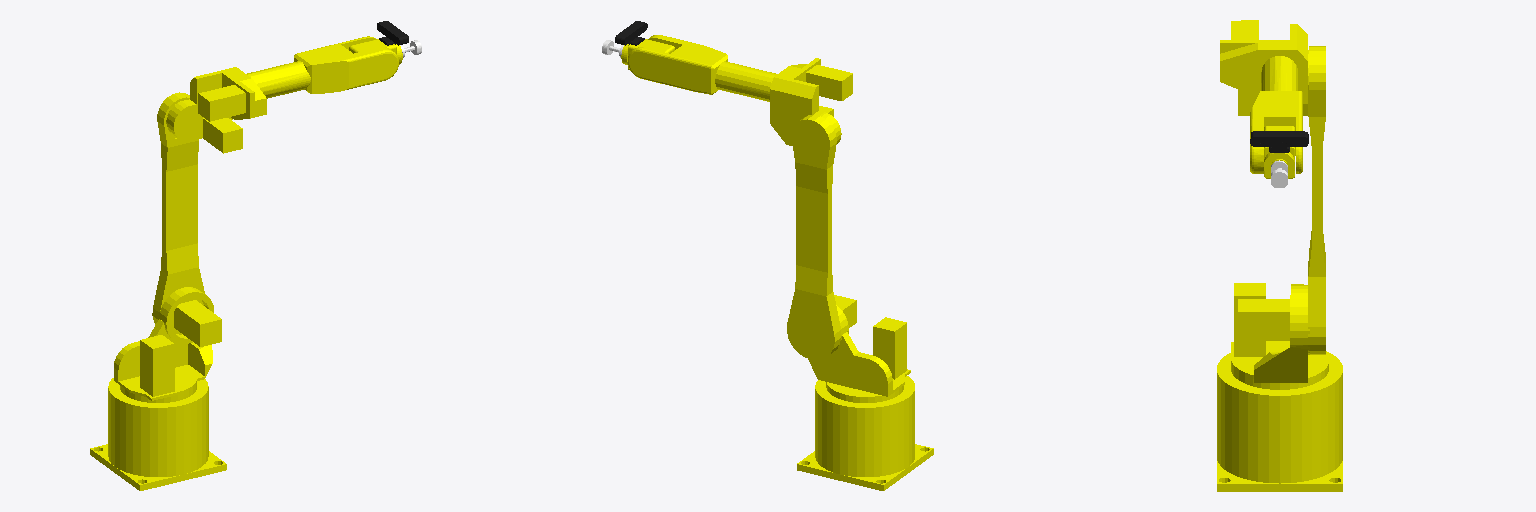
robot.urdf — fanuc_arcmate120ibe:
<?xml version="1.0" encoding="utf-8"?>
<!-- This URDF was automatically created by SolidWorks to URDF Exporter! Originally created by [author] ([email redacted]) 
     Commit Version: 1.5.1-0-g916b5db  Build Version: 1.5.7152.31018
     For more information, please see http://wiki.ros.org/sw_urdf_exporter -->

<robot
  name="fanuc_arcmate120ibe">
  <link
    name="base_link">
    <visual>
      <origin
        xyz="0 0 0"
        rpy="0 0 0" />
      <geometry>
        <mesh
          filename="package://fanuc_arcmate120ibe_support/meshes/base_link.STL" />
      </geometry>
      <material
        name="">
        <color
          rgba="1 1 0 1" />
      </material>
    </visual>
    <collision>
      <origin
        xyz="0 0 0"
        rpy="0 0 0" />
      <geometry>
        <mesh
          filename="package://fanuc_arcmate120ibe_support/meshes/base_link.STL" />
      </geometry>
    </collision>
  </link>
  <link
    name="link_1">
    <visual>
      <origin
        xyz="0 0 -0.225"
        rpy="1.57 0 1.57" />
      <geometry>
        <mesh
          filename="package://fanuc_arcmate120ibe_support/meshes/link_1.STL" />
      </geometry>
      <material
        name="">
        <color
          rgba="1 1 0 1" />
      </material>
    </visual>
    <collision>
      <origin
        xyz="0 0 -0.225"
        rpy="1.57 0 1.57" />
      <geometry>
        <mesh
          filename="package://fanuc_arcmate120ibe_support/meshes/link_1.STL" />
      </geometry>
    </collision>
  </link>
  <joint
    name="joint_1"
    type="revolute">
    <origin
      xyz="0 0 0.525"
      rpy="0 0 0" /> <!-- xyz="0 0 0.3" rpy="1.5708 0 1.5708"-->
    <parent
      link="base_link" />
    <child
      link="link_1" />
    <axis
      xyz="0 0 1" /> <!--xyz="0 0 0" -->
    <limit
      lower="-2.96"
      upper="2.96"
      effort="0"
      velocity="2.879" />
  </joint>
  <link
    name="link_2">
    <visual>
      <origin
        xyz="0 0 -0.08"
        rpy="0 0 -1.57" />
      <geometry>
        <mesh
          filename="package://fanuc_arcmate120ibe_support/meshes/link_2.STL" />
      </geometry>
      <material
        name="">
        <color
          rgba="1 1 0 1" />
      </material>
    </visual>
    <collision>
      <origin
        xyz="0 0 -0.08"
        rpy="0 0 -1.57" />
      <geometry>
        <mesh
          filename="package://fanuc_arcmate120ibe_support/meshes/link_2.STL" />
      </geometry>
    </collision>
  </link>
  <joint
    name="joint_2"
    type="revolute">
    <origin
      xyz="0.150 0 0"
      rpy="1.57 -1.57 0" /> <!--xyz="0.08 0.225 0.15" -->
    <parent
      link="link_1" />
    <child
      link="link_2" />
    <axis
      xyz="0 0 -1" />
    <limit
      lower="-1.57"
      upper="2.79"
      effort="0"
      velocity="2.879" />
  </joint>
  <link
    name="link_3">
    <visual>
      <origin
        xyz="0 0 -0.08"
        rpy="3.14 0 1.57" />
      <geometry>
        <mesh
          filename="package://fanuc_arcmate120ibe_support/meshes/link_3.STL" />
      </geometry>
      <material
        name="">
        <color
          rgba="1 1 0 1" />
      </material>
    </visual>
    <collision>
      <origin
        xyz="0 0 -0.08"
        rpy="3.14 0 1.57" />
      <geometry>
        <mesh
          filename="package://fanuc_arcmate120ibe_support/meshes/link_3.STL" />
      </geometry>
    </collision>
  </link>
  <joint
    name="joint_3"
    type="revolute">
    <origin
      xyz="0.770 0 0"
      rpy="0 0 0" />
    <parent
      link="link_2" />
    <child
      link="link_3" />
    <axis
      xyz="0 0 1" />
    <limit
      lower="-2.96"
      upper="5.06"
      effort="0"
      velocity="3.054" />
  </joint>
  <link
    name="link_4">
    <visual>
      <origin
        xyz="0 0 0.200"
        rpy="0 -3.14 -1.57" />
      <geometry>
        <mesh
          filename="package://fanuc_arcmate120ibe_support/meshes/link_4.STL" />
      </geometry>
      <material
        name="">
        <color
          rgba="1 1 0 1" />
      </material>
    </visual>
    <collision>
      <origin
        xyz="0 0 0.200"
        rpy="0 -3.14 -1.57" />
      <geometry>
        <mesh
          filename="package://fanuc_arcmate120ibe_support/meshes/link_4.STL" />
      </geometry>
    </collision>
  </link>
  <joint
    name="joint_4"
    type="revolute">
    <origin
      xyz="0.100 0 0"
      rpy="1.57 0 0" />
    <parent
      link="link_3" />
    <child
      link="link_4" />
    <axis
      xyz="0 0 -1" />
    <limit
      lower="-3.49"
      upper="3.49"
      effort="0"
      velocity="6.108" />
  </joint>
  <link
    name="link_5">
    <visual>
      <origin
        xyz="0 0 -0.045"
        rpy="-3.14 0 1.57" />
      <geometry>
        <mesh
          filename="package://fanuc_arcmate120ibe_support/meshes/link_5.STL" />
      </geometry>
      <material
        name="">
        <color
          rgba="1 1 0 1" />
      </material>
    </visual>
    <collision>
      <origin
        xyz="0 0 -0.045"
        rpy="-3.14 0 1.57" />
      <geometry>
        <mesh
          filename="package://fanuc_arcmate120ibe_support/meshes/link_5.STL" />
      </geometry>
    </collision>
  </link>
  <joint
    name="joint_5"
    type="revolute">
    <origin
      xyz="0 0 0.740"
      rpy="1.57 0 0" />
    <parent
      link="link_4" />
    <child
      link="link_5" />
    <axis
      xyz="0 0 -1" />
    <limit
      lower="-2.44"
      upper="2.44"
      effort="0"
      velocity="5.934" />
  </joint>
  <link
    name="link_6">
    <visual>
      <origin
        xyz="0 0 -0.03"
        rpy="0 0 0" />
      <geometry>
        <mesh
          filename="package://fanuc_arcmate120ibe_support/meshes/link_6.STL" />
      </geometry>
      <material
        name="">
        <color
          rgba="1 1 0 1" />
      </material>
    </visual>
    <collision>
      <origin
        xyz="0 0 -0.03"
        rpy="0 0 0" />
      <geometry>
        <mesh
          filename="package://fanuc_arcmate120ibe_support/meshes/link_6.STL" />
      </geometry>
    </collision>
  </link>
  <joint
    name="joint_6"
    type="revolute">
    <origin
      xyz="0 0.1 0"
      rpy="-1.57 0 0" />
    <parent
      link="link_5" />
    <child
      link="link_6" />
    <axis
      xyz="0 0 -1" />
    <limit
      lower="-7.853"
      upper="7.853"
      effort="0"
      velocity="9.075" />
  </joint>

  <!-- CAMERA -->
  <link
    name="camera_link">
    <visual>
      <origin
        xyz="0 0 0"
        rpy="3.14 0 1.57" />
      <geometry>
        <mesh
          filename="package://fanuc_arcmate120ibe_support/meshes/camera.STL" />
      </geometry>
      <material
        name="">
        <color
          rgba="0.156 0.156 0.156 1" />
      </material>
    </visual>
    <collision>
      <origin
        xyz="0 0 0"
        rpy="3.14 0 1.57" />
      <geometry>
        <mesh
          filename="package://fanuc_arcmate120ibe_support/meshes/camera.STL" />
      </geometry>
    </collision>
  </link>
  <joint
   name="camera_joint"
   type="fixed">
    <origin 
      xyz="0.080 0.1 0" 
      rpy="1.57 0 1.57" />  <!--xyz="0.085 0.1 0" 
      rpy="1.57 0 1.57"-->
      <!--<axis
       xyz="-1 0 0" /> Not used for fixed and floating joints-->
    <parent 
      link="link_5"/><!--link="link_6"-->
    <child 
      link="camera_link"/>
  </joint>


  <!-- MAGNET AS END-EFFECTOR-->
  <link
    name="magnet_link">
    <visual>
      <origin
        xyz="0 0 -0.08"
        rpy="0 0 0" />
      <geometry>
        <mesh
          filename="package://fanuc_arcmate120ibe_support/meshes/magnet.STL" />
      </geometry>
      <material
        name="">
        <color
          rgba="1 1 1 1" />
      </material>
    </visual>
    <collision>
      <origin
        xyz="0 0 -0.08"
        rpy="0 0 0" />
      <geometry>
        <mesh
          filename="package://fanuc_arcmate120ibe_support/meshes/magnet.STL" />
      </geometry>
    </collision>
  </link>
  <joint name="magnet_joint" type="fixed">
        <parent link="link_6"/>
        <child link="magnet_link"/>
        <origin rpy="0 0 0" xyz="0 0 0.08"/>
        <axis xyz="1 0 0" />
  </joint>


  <!-- To fix the "base_link" with Gazebo's "world" reference frame -->
  <link 
    name="world" />
  <joint name="fixed" type="fixed">
    <parent 
      link="world" />
    <child 
      link="base_link" />
    </joint> 
    
</robot>

--- Facts derived from the render (not from the file) ---
3 views of the same robot in one strip: view 1: azimuth 30°, elevation 25°; view 2: azimuth 150°, elevation 25°; view 3: azimuth 270°, elevation 25° (orthographic).
Model fanuc_arcmate120ibe with 10 links and 9 joints (6 revolute, 3 fixed), rooted at world, posed all joints at 0.
Visible links, largest first — view 1: base_link, link_1, link_2, link_3, link_4; view 2: link_2, base_link, link_1, link_4, link_3; view 3: base_link, link_1, link_2, link_3, link_4, camera_link.
Boxes of the visible links, x1,y1,x2,y2 form: base_link: (90,378,226,490); link_1: (114,287,221,402); link_2: (152,92,204,324); link_3: (167,67,266,153); link_4: (247,36,398,98); link_2: (787,115,841,359); base_link: (797,376,933,490); link_1: (808,295,910,402); link_4: (628,35,776,101); link_3: (770,58,852,145); base_link: (1217,351,1342,491); link_1: (1231,283,1328,389); link_2: (1308,46,1325,354); link_3: (1220,20,1307,115); link_4: (1250,56,1302,173); camera_link: (1250,131,1308,152).
Size in the robot's own frame: 1.26 by 0.36 by 1.49 metres.
Meshes: 9 distinct files referenced, 9 mesh visuals loaded (9 binary STL).
